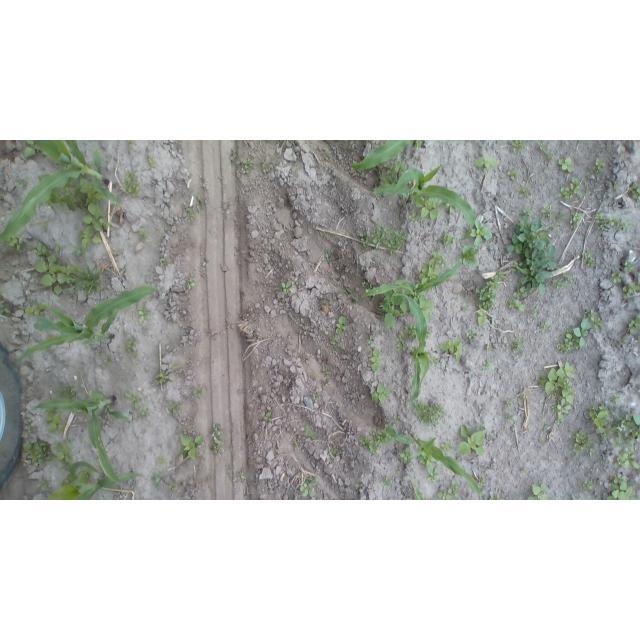Maize: (17, 286, 164, 373), (1, 140, 121, 240), (32, 389, 131, 482), (373, 163, 475, 241), (386, 419, 482, 498), (393, 293, 431, 404), (44, 461, 142, 500), (363, 259, 463, 297), (349, 141, 415, 171), (411, 481, 421, 500)
Weeds: (510, 212, 559, 277), (537, 361, 576, 424), (79, 179, 112, 249), (557, 308, 600, 352), (35, 253, 76, 295), (611, 412, 640, 469), (65, 259, 106, 297), (357, 225, 406, 256), (456, 424, 487, 457), (480, 270, 506, 309), (51, 187, 85, 214), (605, 473, 639, 500), (412, 399, 445, 426), (382, 295, 407, 330), (587, 402, 613, 434), (420, 249, 446, 281), (570, 428, 596, 457), (23, 440, 49, 468), (360, 431, 389, 455), (178, 433, 202, 459), (471, 220, 493, 246), (441, 338, 464, 362), (416, 197, 440, 219), (474, 155, 499, 174), (560, 178, 582, 199), (122, 170, 139, 197), (595, 214, 621, 231), (44, 411, 64, 433), (419, 296, 436, 321), (372, 382, 391, 404), (438, 480, 459, 499), (298, 479, 317, 499), (124, 391, 143, 410), (24, 301, 48, 316), (528, 483, 549, 500), (389, 159, 407, 178), (24, 140, 41, 160), (463, 245, 480, 265), (370, 347, 384, 371), (210, 422, 222, 450), (56, 442, 73, 461), (558, 156, 575, 174), (124, 337, 140, 355), (60, 385, 79, 400), (397, 335, 411, 355), (303, 425, 320, 441), (508, 338, 524, 355), (623, 282, 640, 298), (343, 287, 360, 303), (137, 305, 151, 324), (507, 300, 526, 314), (627, 314, 640, 332), (336, 317, 348, 336), (241, 158, 255, 174), (7, 237, 23, 251), (426, 466, 440, 482), (401, 448, 414, 465), (570, 212, 583, 229), (537, 320, 552, 334), (591, 158, 605, 173), (475, 310, 488, 326), (34, 244, 51, 256), (540, 141, 552, 158), (512, 140, 526, 154), (584, 252, 597, 267), (623, 260, 637, 273), (185, 204, 197, 219), (518, 186, 533, 198), (508, 167, 520, 182), (630, 183, 640, 200), (156, 372, 169, 385), (542, 205, 555, 218), (186, 274, 197, 289), (152, 474, 162, 490), (37, 479, 50, 491), (404, 322, 417, 334), (562, 270, 574, 282), (552, 278, 564, 290), (611, 271, 622, 284), (0, 304, 12, 315), (16, 178, 28, 189), (482, 359, 495, 369), (556, 211, 566, 224), (281, 281, 291, 294), (191, 388, 205, 397), (42, 222, 51, 235), (443, 236, 456, 245), (325, 248, 334, 261), (323, 148, 334, 158), (429, 356, 440, 366), (140, 228, 149, 240), (624, 222, 636, 231), (170, 399, 180, 409), (440, 443, 450, 453), (149, 157, 158, 168), (73, 248, 84, 257), (611, 394, 622, 403), (409, 211, 420, 220), (329, 336, 337, 348), (104, 358, 114, 367), (503, 398, 513, 407), (582, 480, 592, 489), (139, 408, 150, 416), (467, 330, 476, 339), (331, 448, 341, 456), (383, 476, 391, 486), (523, 207, 533, 215), (367, 335, 374, 345), (265, 411, 272, 421), (506, 413, 516, 420), (384, 176, 392, 184), (478, 477, 485, 486), (488, 496, 503, 500), (171, 365, 179, 372), (156, 456, 164, 463), (538, 438, 546, 445), (544, 166, 553, 172), (161, 257, 168, 264), (612, 180, 619, 187), (261, 161, 267, 169), (129, 140, 136, 146), (394, 415, 401, 421), (586, 171, 592, 178), (361, 283, 368, 289), (169, 484, 175, 490), (463, 303, 469, 309), (488, 346, 494, 352), (314, 391, 319, 398), (56, 244, 61, 250), (312, 374, 316, 378), (579, 140, 582, 142)
